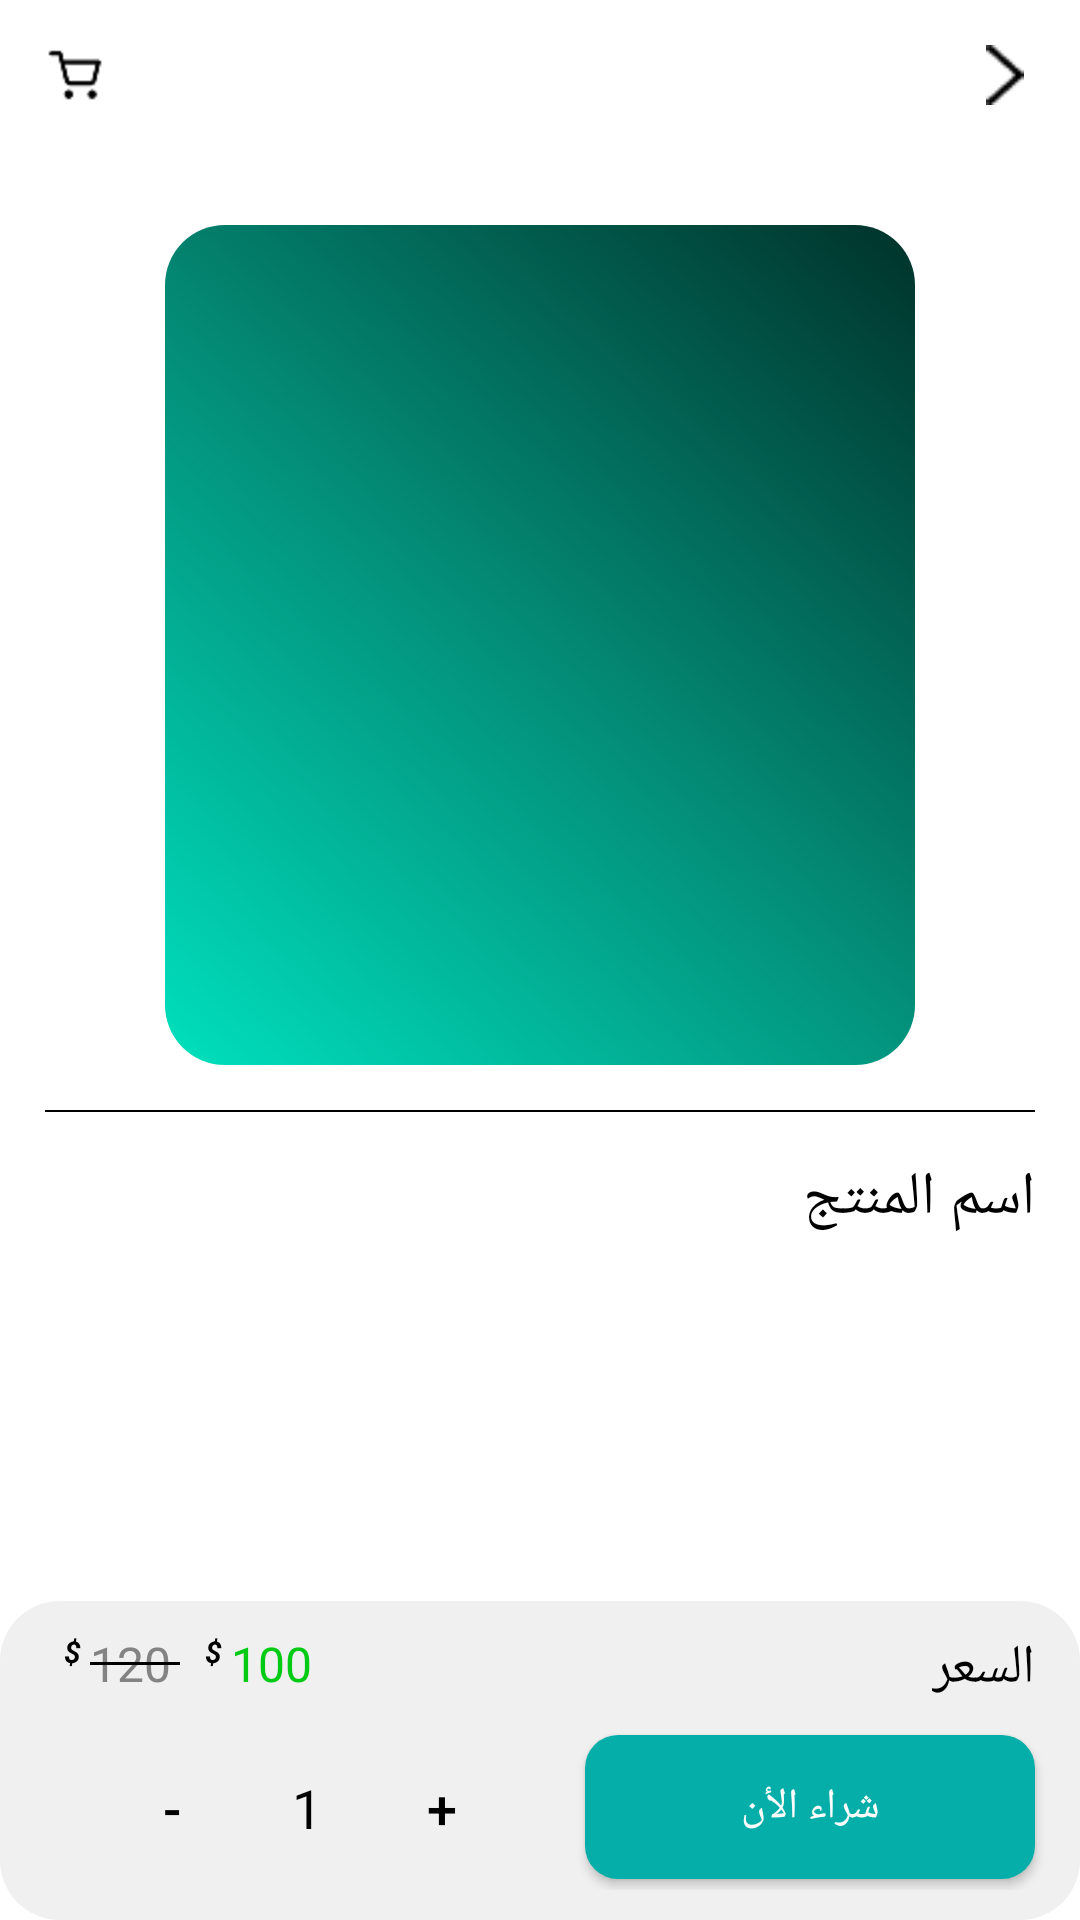

Where icons sit on this 1080*1920 app screen, as (x1, y1, x2, y2):
cart: (48, 50, 102, 100)
